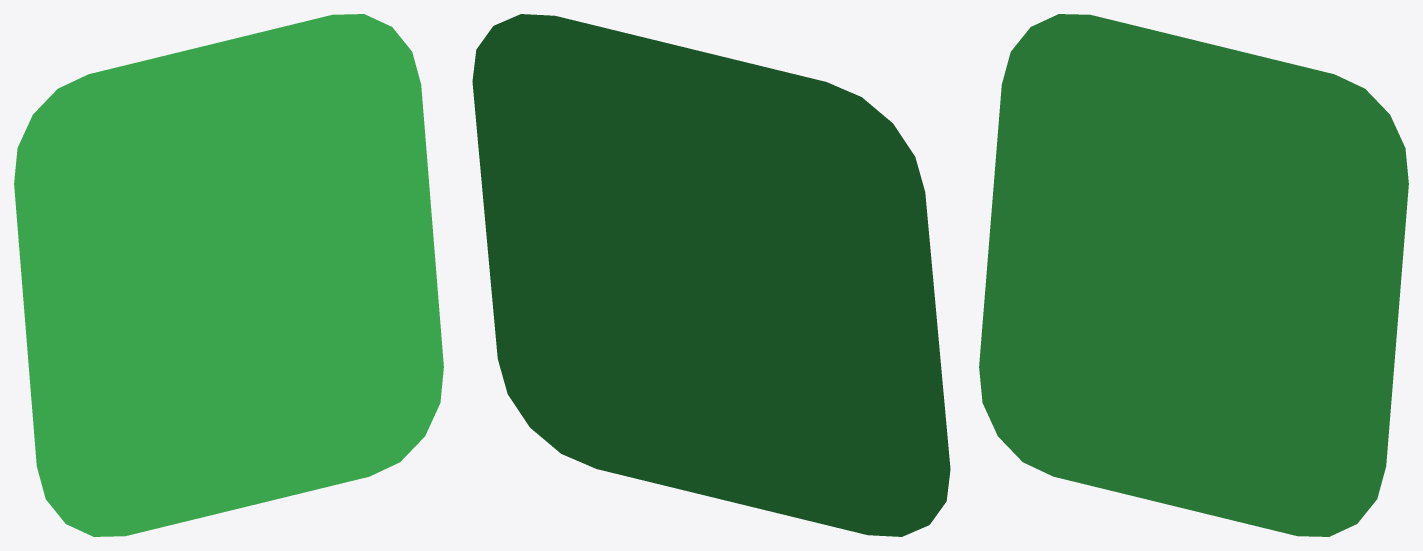
File: original-19.obj
3 renders of one model, left to right at view 1: azimuth 30°, elevation 25°; view 2: azimuth 150°, elevation 25°; view 3: azimuth 330°, elevation 25°, orthographic. The views are drawn at different scales.
Parts seen in each view (by area): view 1: #ID23; view 2: #ID23; view 3: #ID23.
Boxes of the visible parts, x1=… form: #ID23: x1=14, y1=14, x2=443, y2=536; #ID23: x1=472, y1=14, x2=950, y2=536; #ID23: x1=979, y1=14, x2=1408, y2=536.
Size of the model in its own units: 0.2411 by 0.246 by 0.0381.
